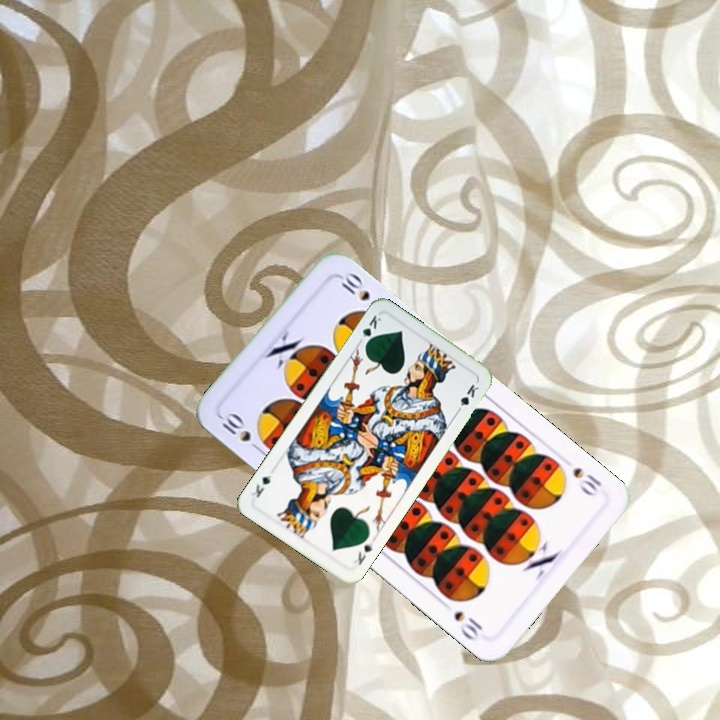GK: (354, 311, 384, 349), (350, 534, 377, 568)
S10: (218, 408, 265, 455), (569, 463, 605, 500)
